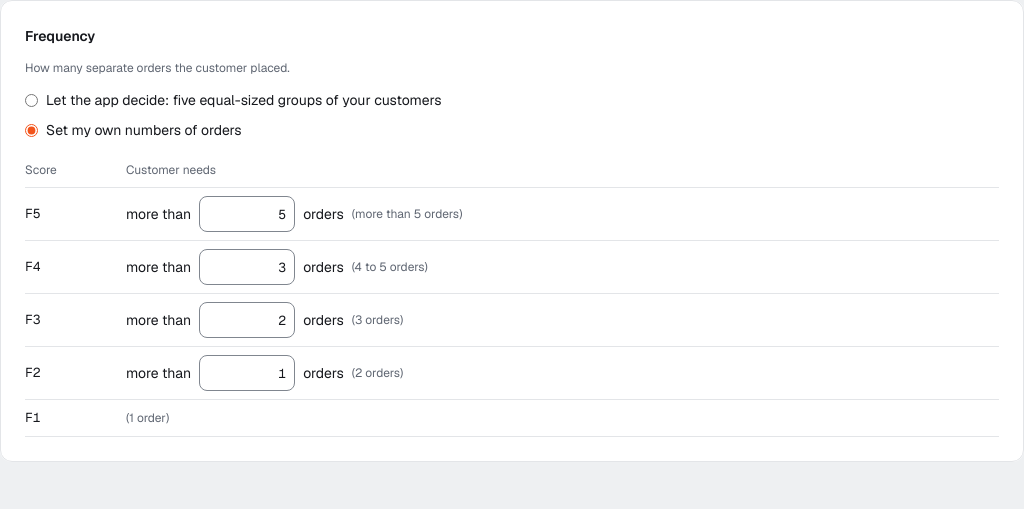
Scenario: ThresholdCard (U5) › explains a problem in place and hides the ranges until it is fixed
Check: the text "(4 to 5 orders)" is shown, box x1=352 y1=258 x2=428 y2=276
Replace the text in the field named "Frequency score 3" with "1" at x=247, y=320, box x1=199 y1=302 x2=295 y2=338
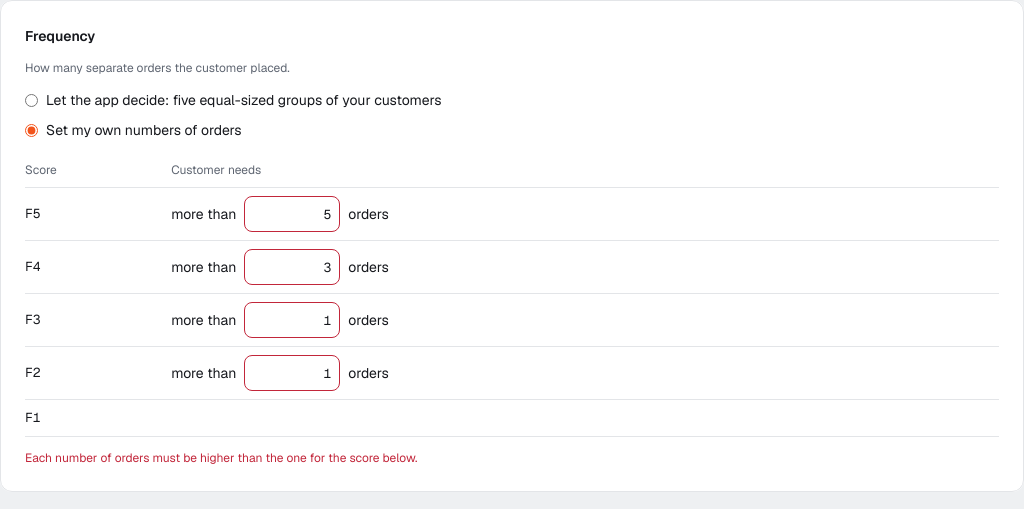
Check: the message reads "Each number of orders must be higher than the one for the score below.", box x1=25 y1=450 x2=418 y2=466
Check: the text "(4 to 5 orders)" is gone
